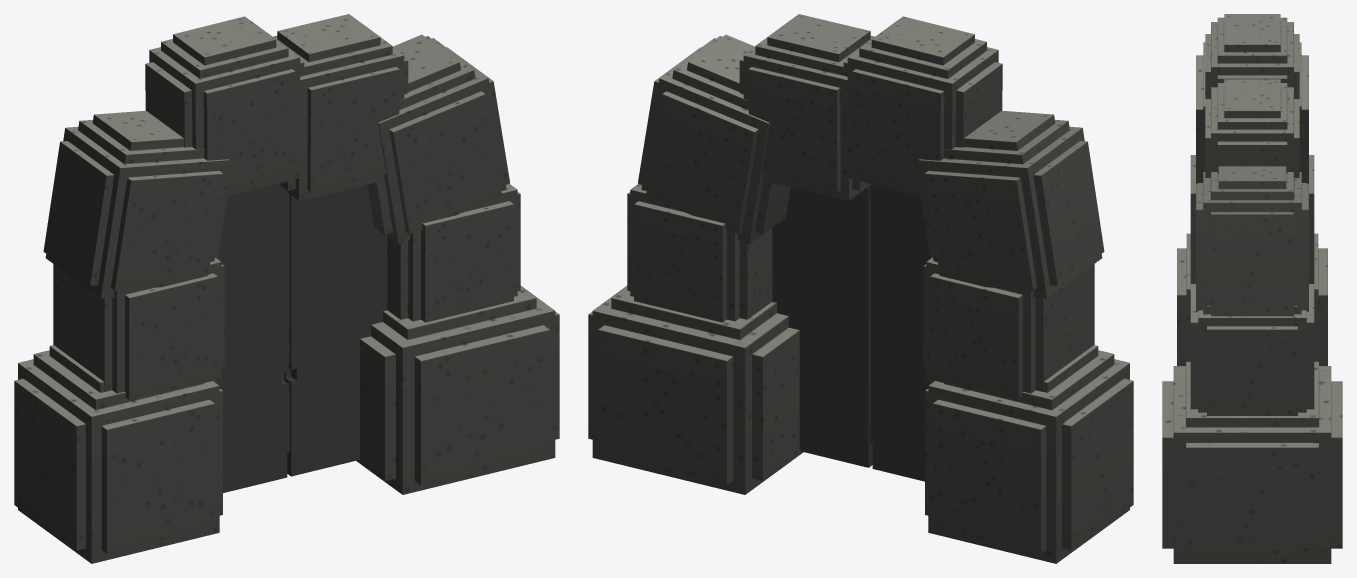
The model's file is Gerbang Batu.fbx.
3 views of the same model, side by side, from view 1: azimuth 30°, elevation 25°; view 2: azimuth 150°, elevation 25°; view 3: azimuth 270°, elevation 25° (orthographic). The views are drawn at different scales.
Parts seen in each view (by area): view 1: Gerbang Batu; view 2: Gerbang Batu; view 3: Gerbang Batu.
Part boxes in pixels (x1=…): Gerbang Batu: x1=14, y1=14, x2=559, y2=563; Gerbang Batu: x1=588, y1=14, x2=1133, y2=563; Gerbang Batu: x1=1162, y1=14, x2=1342, y2=563.
Size of the model in its own units: 738 by 679 by 270.
2 materials, 1 textured.
